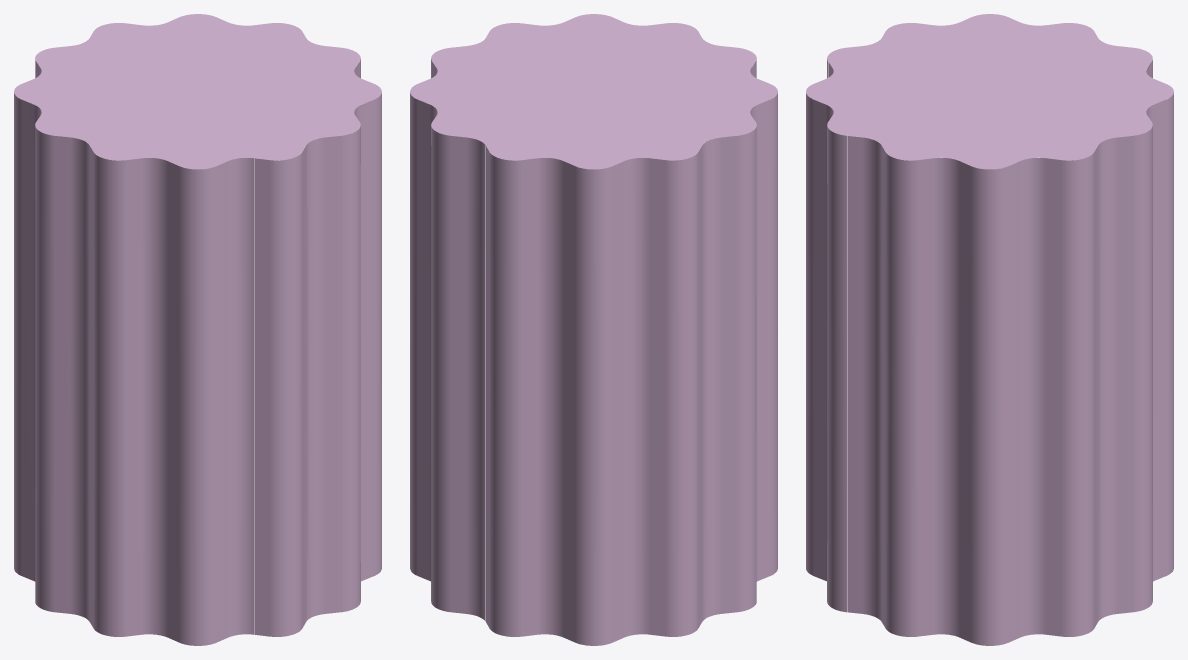
The model's file is column.glb.
3 renders of one model, left to right at view 1: azimuth 30°, elevation 25°; view 2: azimuth 150°, elevation 25°; view 3: azimuth 270°, elevation 25°, orthographic.
Parts seen in each view (by area): view 1: Mesh_29; view 2: Mesh_29; view 3: Mesh_29.
Part boxes in pixels (box(x1,y1,x2,y2)): Mesh_29: box(14, 14, 381, 645); Mesh_29: box(410, 14, 777, 645); Mesh_29: box(806, 14, 1173, 645).
Size of the model in its own units: 1.4 by 2 by 1.4.
